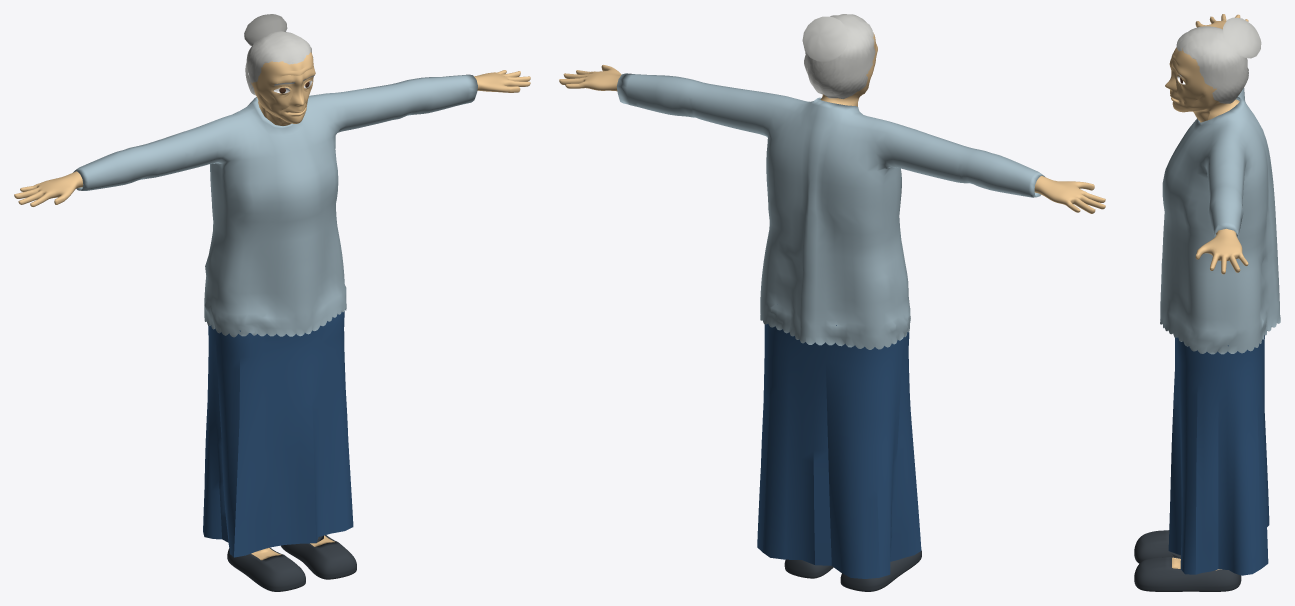
Rendered from Nenek.fbx.
3 renders of one model, left to right at view 1: azimuth 30°, elevation 25°; view 2: azimuth 150°, elevation 25°; view 3: azimuth 270°, elevation 25°, orthographic. The views are drawn at different scales.
Visible parts, largest first — view 1: nenek; view 2: nenek; view 3: nenek.
Part boxes in pixels (x1,y1,x2,y2): nenek: (14, 14, 530, 591); nenek: (559, 14, 1105, 591); nenek: (1134, 14, 1280, 591).
Bounding box in the file's own units: 151 × 150 × 36.24.
